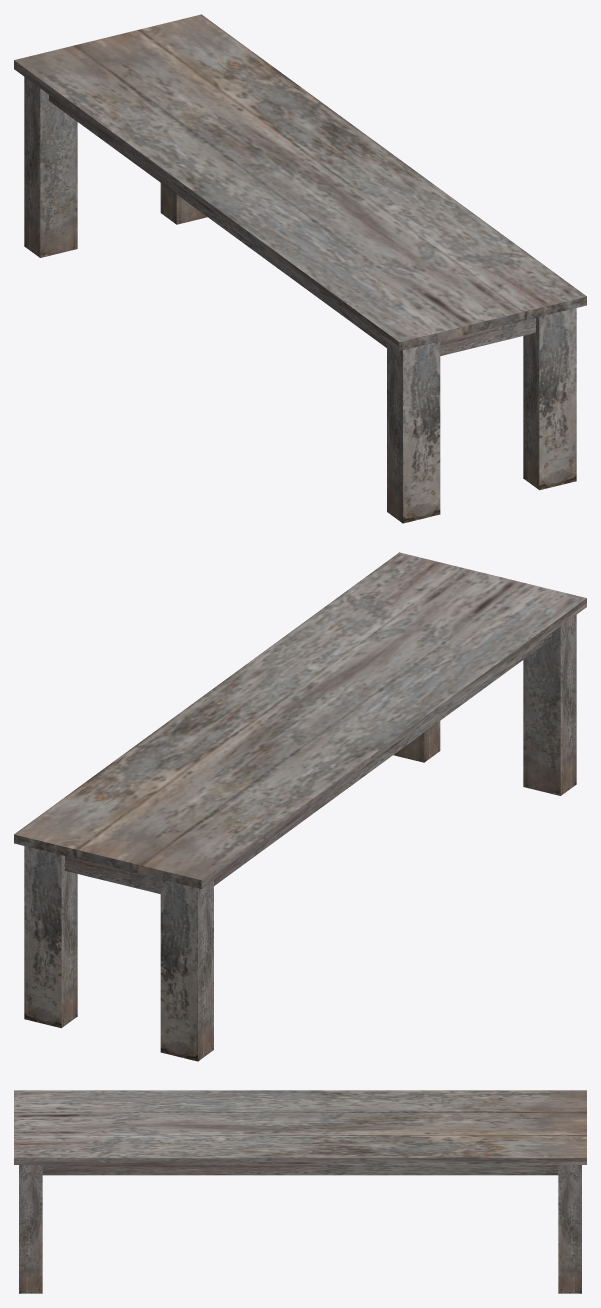
File: BancaCocina.FBX
The picture shows the model from 3 angles, top to bottom: view 1: azimuth 30°, elevation 25°; view 2: azimuth 150°, elevation 25°; view 3: azimuth 270°, elevation 25°; orthographic projection. The views are drawn at different scales.
Parts seen in each view (by area): view 1: BancaCocina; view 2: BancaCocina; view 3: BancaCocina.
Boxes of the visible parts, <box> form: BancaCocina: <box>14,14,586,523</box>; BancaCocina: <box>14,552,586,1061</box>; BancaCocina: <box>14,1090,586,1293</box>.
Bounding box in the file's own units: 16 × 15.12 × 56.93.
